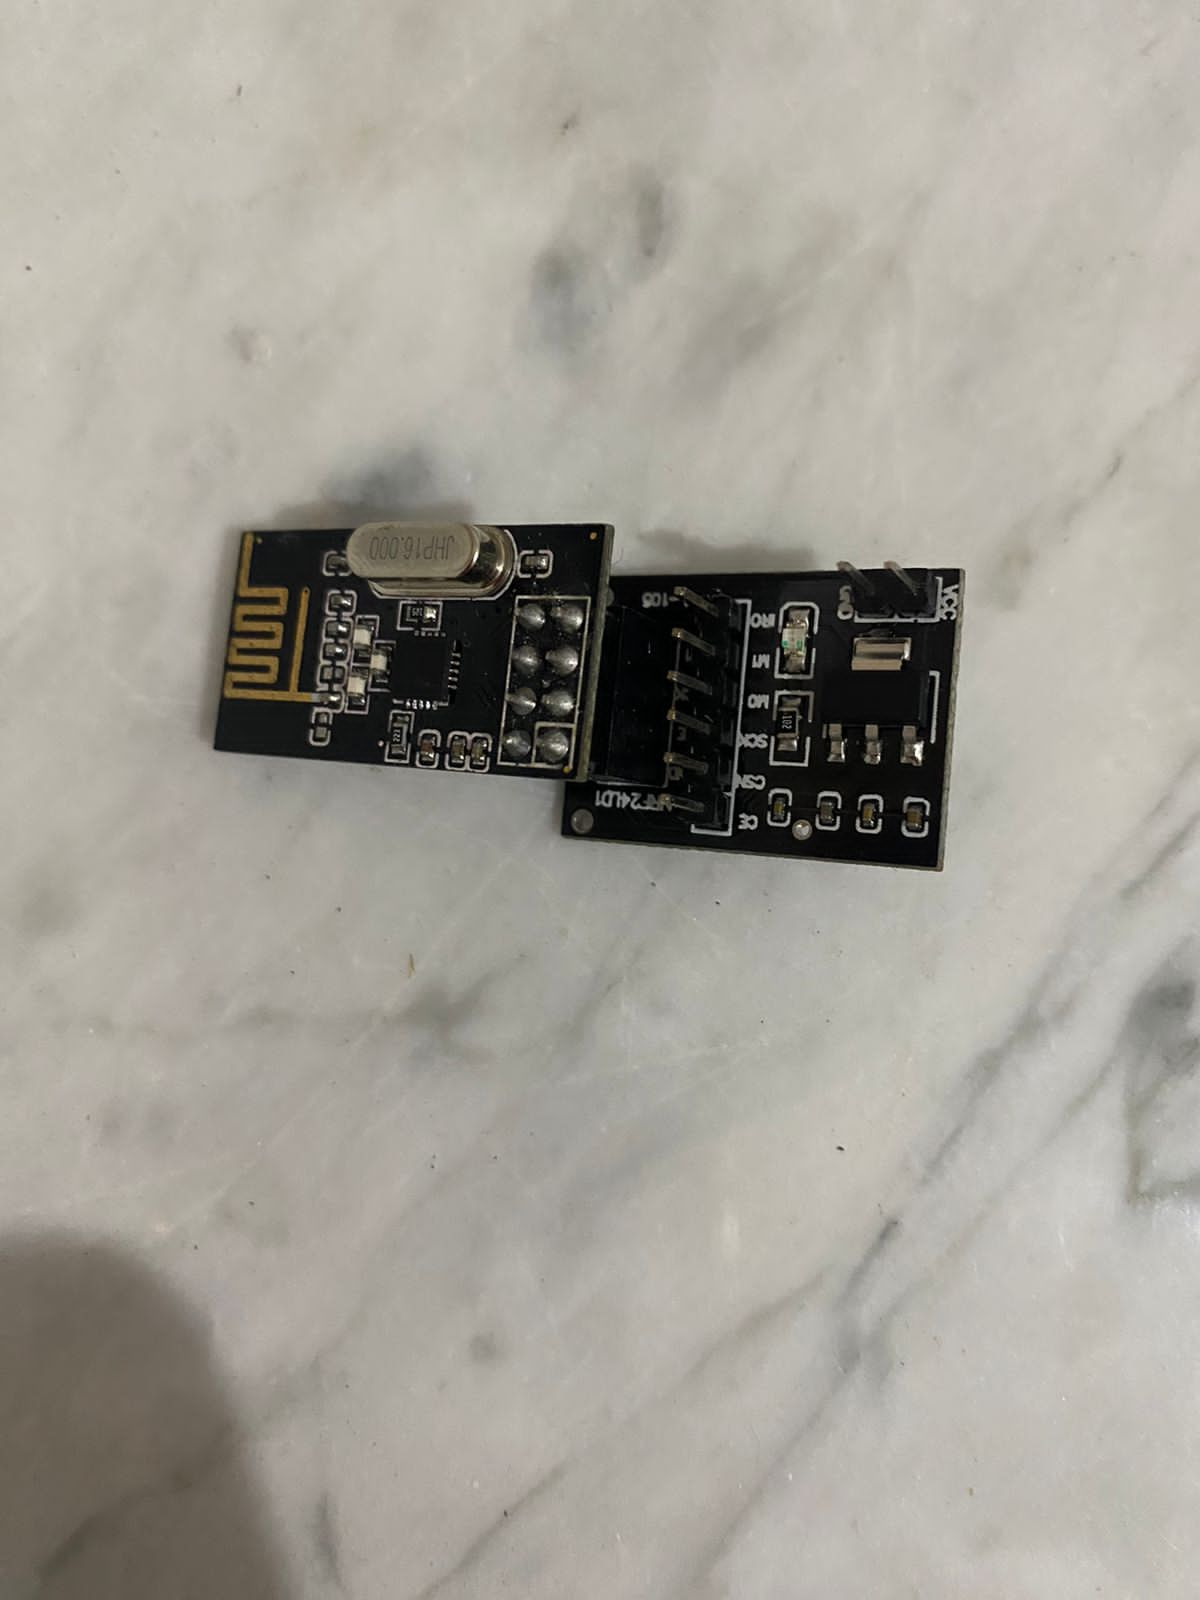RF-module: (207, 496, 971, 898)
